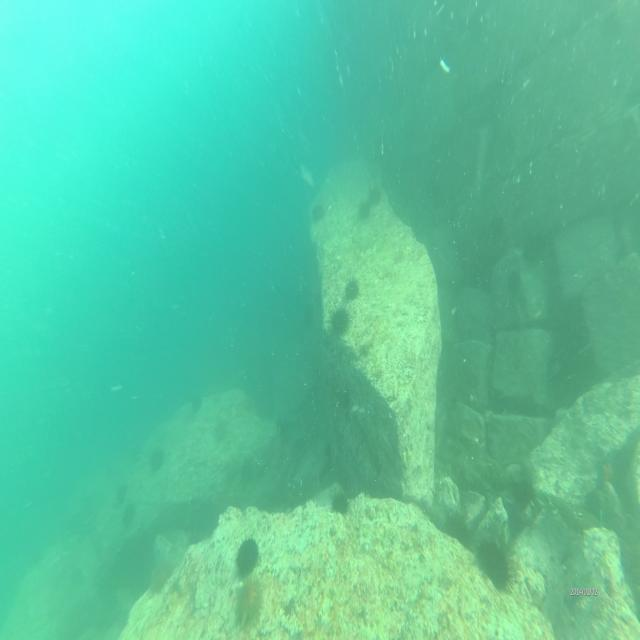echinus: (474, 535, 518, 598), (232, 576, 268, 628), (443, 506, 469, 552), (234, 533, 260, 579), (119, 500, 139, 536), (328, 488, 352, 517), (332, 308, 351, 340), (115, 475, 131, 513), (211, 416, 229, 448), (309, 196, 326, 229), (237, 456, 254, 489), (343, 272, 361, 302), (190, 385, 203, 422), (367, 181, 383, 207), (151, 447, 165, 475), (356, 198, 372, 219)
